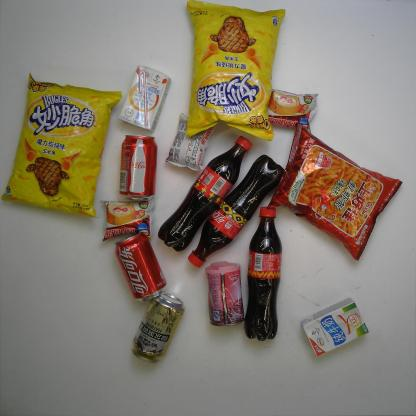Alcohol: (132, 292, 185, 364)
Canned Food: (204, 261, 245, 327)
Dessert: (164, 112, 217, 172), (100, 196, 156, 242), (268, 88, 318, 134)
Drink: (157, 134, 253, 252), (188, 154, 286, 268), (244, 207, 283, 341), (115, 232, 168, 303), (119, 134, 158, 202)
Milk: (300, 298, 368, 358), (118, 65, 172, 133)
Puffed Food: (266, 123, 403, 261), (0, 71, 123, 219), (185, 0, 285, 143)
